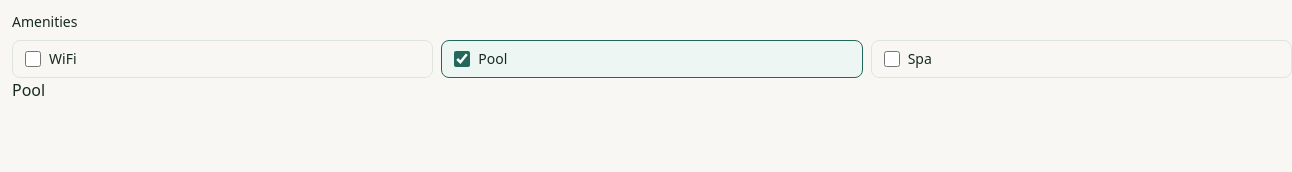
it: CheckboxGroup › adds and removes choices
This screenshot has width=1292, height=172.
Click the checkbox labelled "WiFi" at (33, 59), box [25,51,41,67]
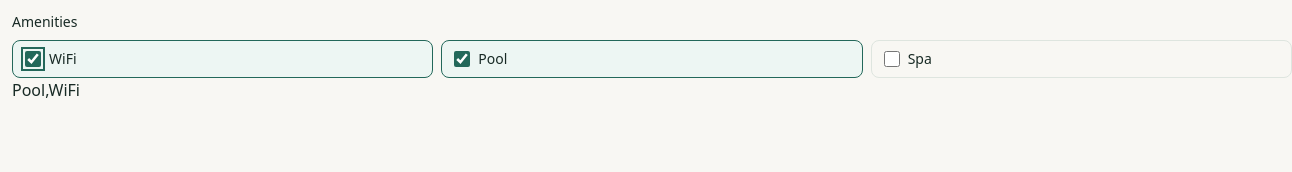
Check: the text with test id "chosen" reads "Pool,WiFi", box [12,79,80,101]
Click the checkbox labelled "Pool" at (462, 59), box [454,51,470,67]
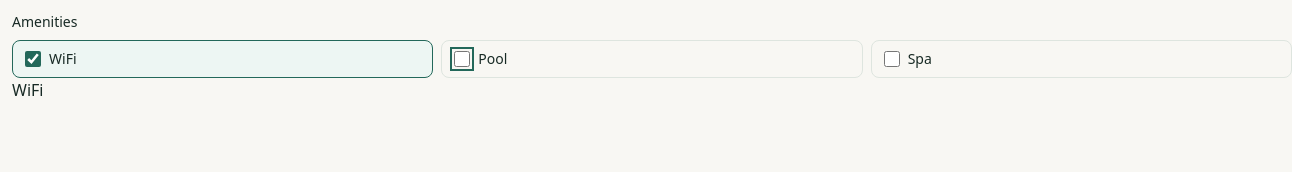
Check: the text with test id "chosen" reads "WiFi", box [12,79,44,101]
